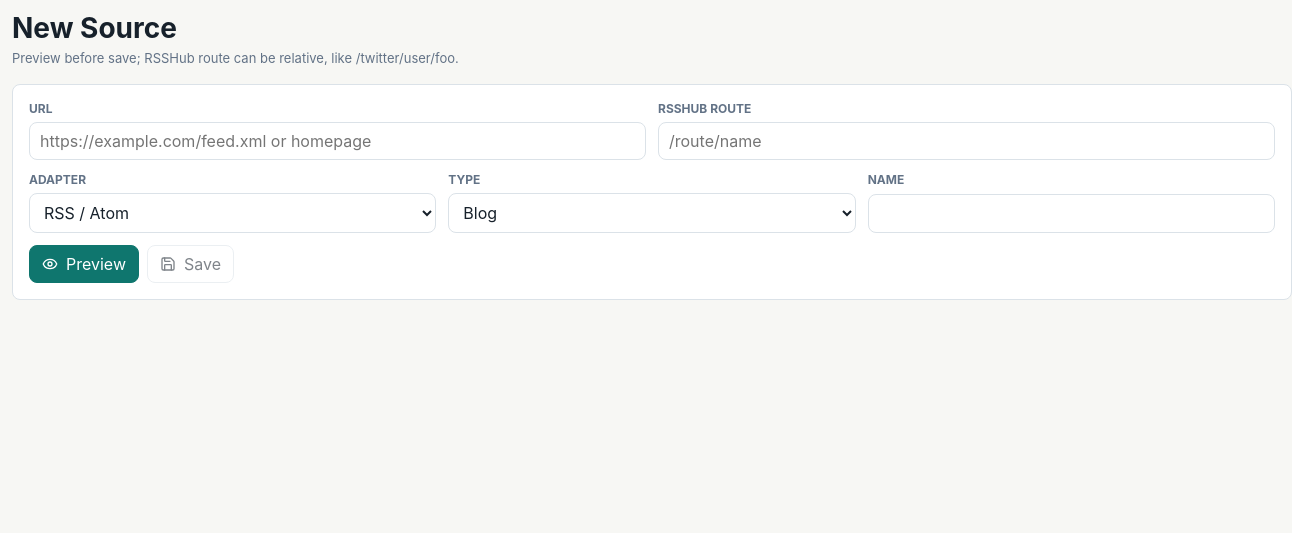
Scenario: NewSourcePage › previews a source, auto-fills the name, and saves the payload
This screenshot has width=1292, height=533.
Expected: the button "Save" is disabled, [147,245,234,283]
Type "https://example.com/feed.xml" into the field labelled "URL". click: point(338, 141)
box: [29,122,646,160]
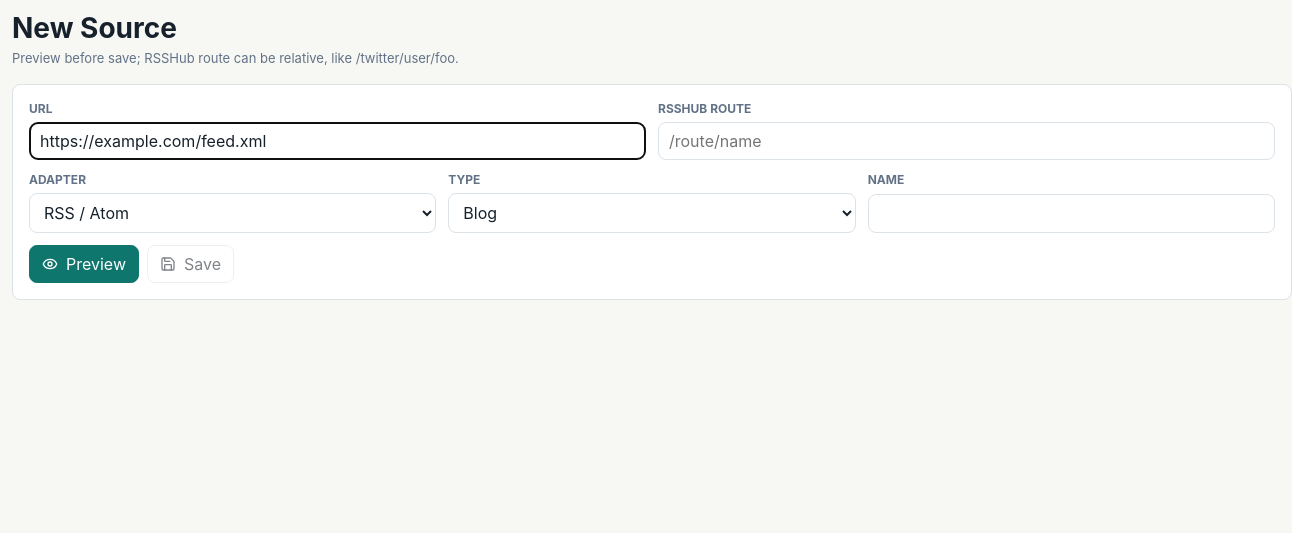
Select "Blog" in the dropdown labelled "Type". click: point(652, 213)
box: [448,193,856,233]
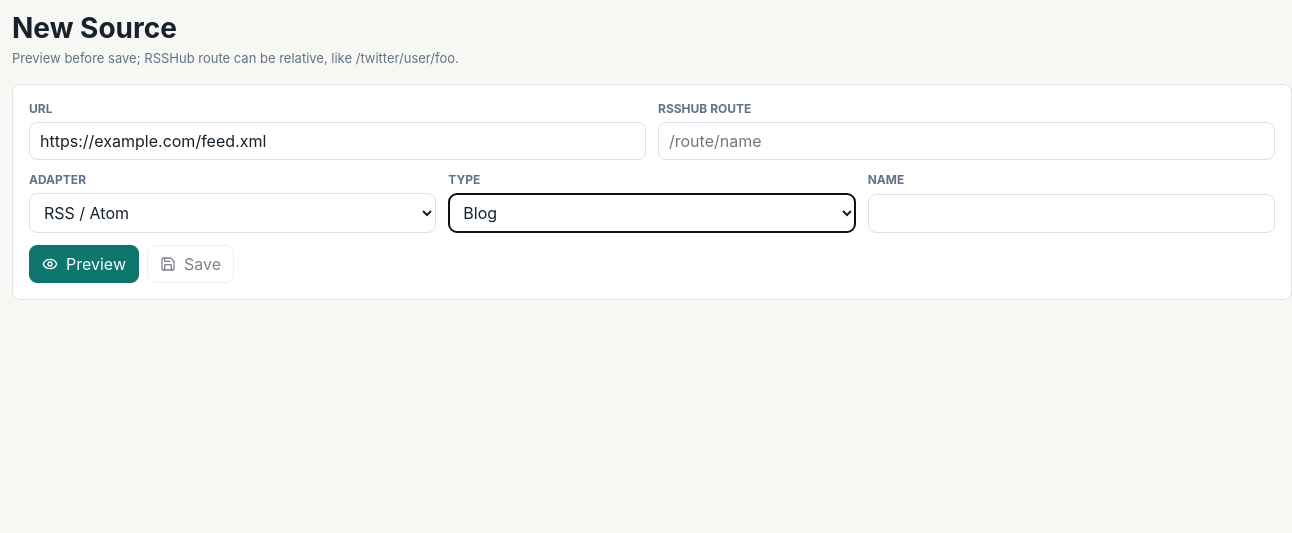
Click the button "Preview". click: point(84, 264)
box: [29,245,139,283]
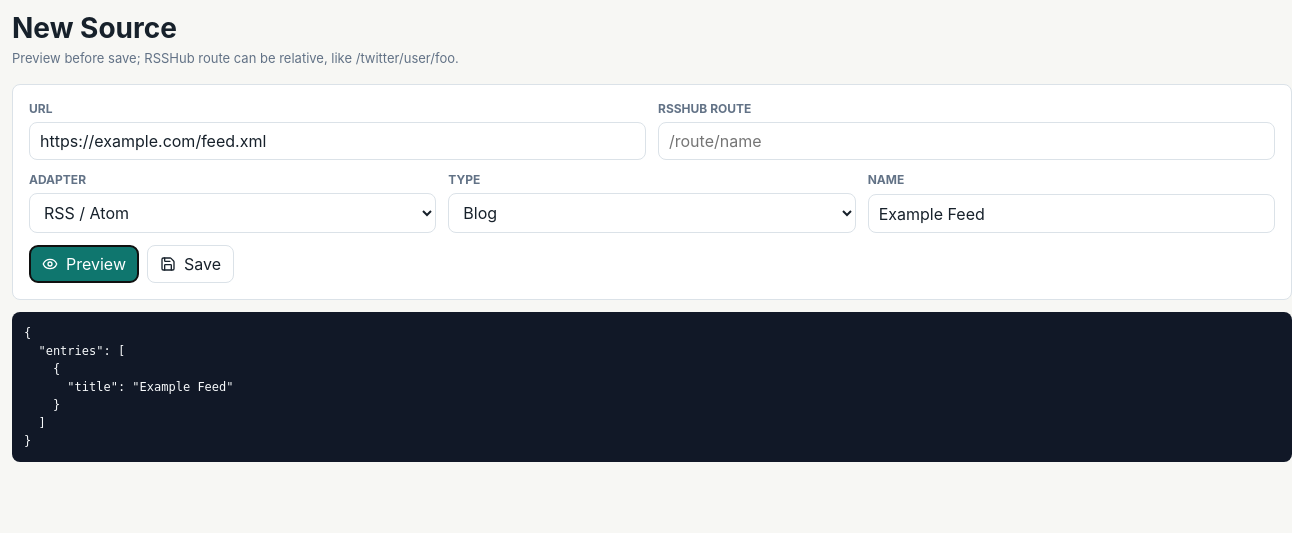
Expected: the field labelled "Name" holds "Example Feed", [868,194,1275,233]
Click the button "Save". click: point(190, 264)
box: [147,245,234,283]
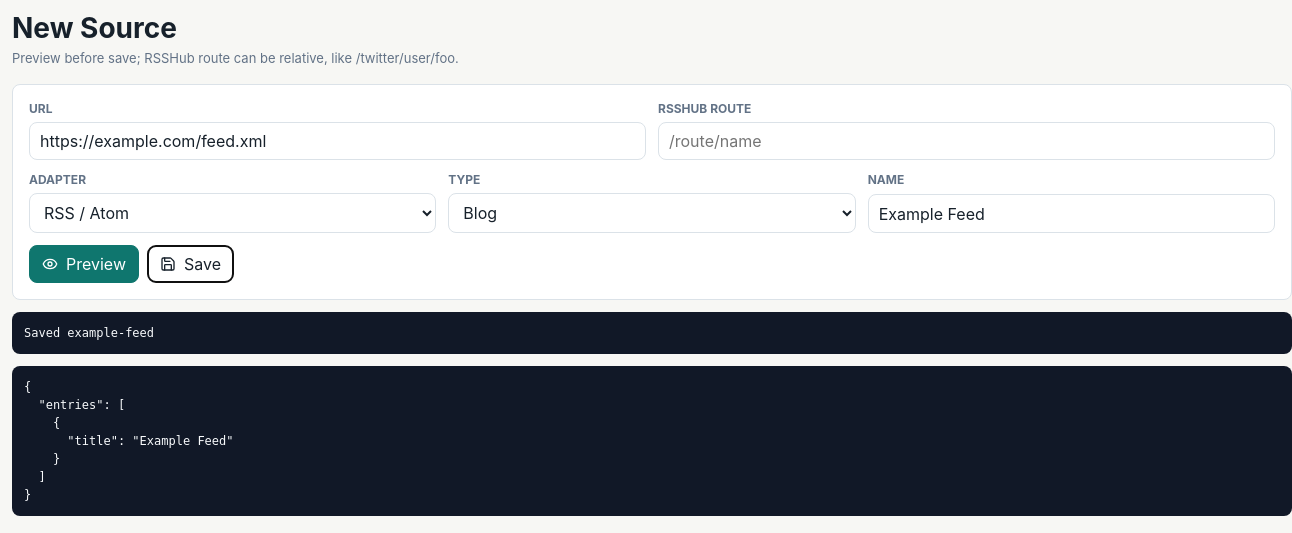
Expected: the text "Saved example-feed" is shown, [12,312,1291,354]
